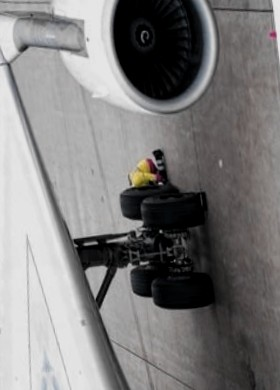chock: (194, 187, 209, 214)
wheel: (135, 188, 208, 232), (147, 269, 216, 312), (117, 182, 183, 222), (127, 261, 171, 297)
